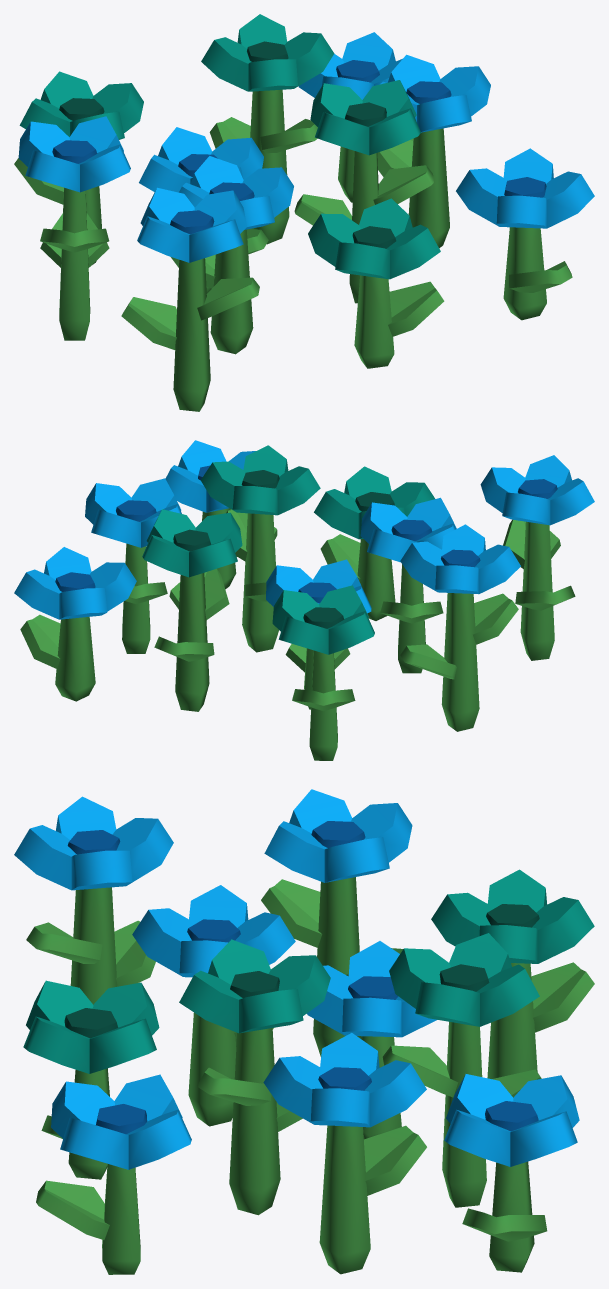
The model's file is flower-01.glb.
The picture shows the model from 3 angles, top to bottom: view 1: azimuth 30°, elevation 25°; view 2: azimuth 150°, elevation 25°; view 3: azimuth 270°, elevation 25°; orthographic projection. The views are drawn at different scales.
Visible parts, largest first — view 1: flower 01; view 2: flower 01; view 3: flower 01.
Boxes of the visible parts, left/top/right/bottom form: flower 01: left=14, top=14, right=594, bottom=411; flower 01: left=14, top=440, right=594, bottom=760; flower 01: left=14, top=789, right=594, bottom=1274.
Size of the model in its own units: 0.8951 by 0.3673 by 0.7958.
Materials: 1 (1 with a texture image).
